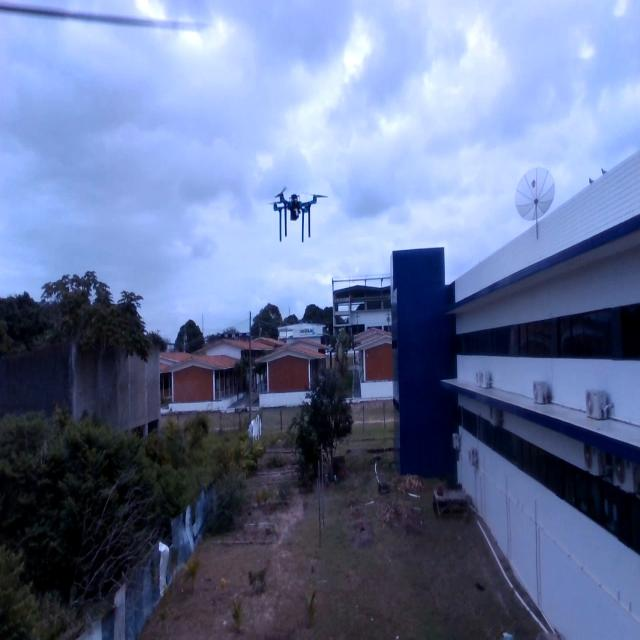-uav-: (263, 173, 329, 249)
